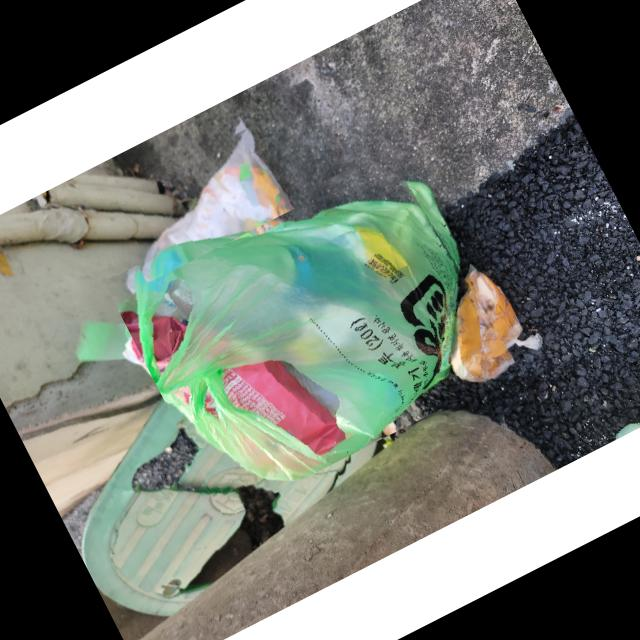general_trashbag: (139, 195, 459, 478)
other_trashbag: (142, 126, 295, 281)
